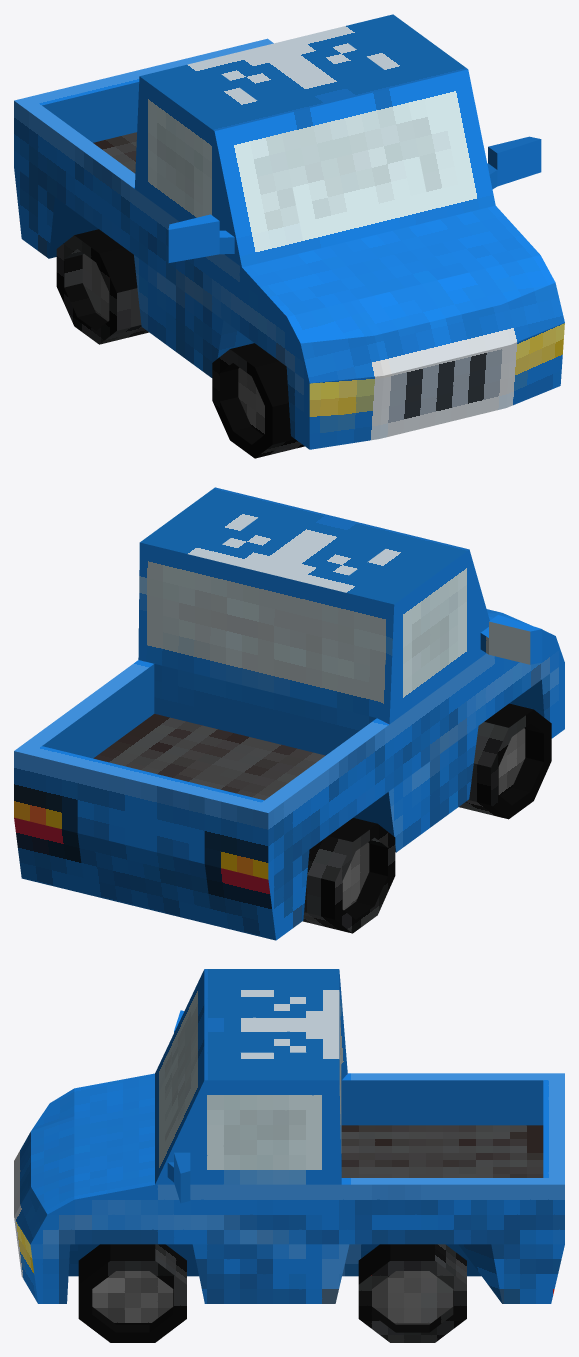
The model's file is truck.gltf.
3 views of the same model, one above another, from view 1: azimuth 30°, elevation 25°; view 2: azimuth 150°, elevation 25°; view 3: azimuth 270°, elevation 25° (orthographic). The views are drawn at different scales.
Parts seen in each view (by area): view 1: body, cylinder (×2), mirror_right, mirror_left; view 2: body, cylinder (×2), mirror_right; view 3: body, cylinder (×2), mirror_left.
Part boxes in pixels (x1,y1,x2,y2): body: (14, 14, 564, 449); cylinder (×2): (56, 229, 304, 458); mirror_right: (168, 214, 234, 262); mirror_left: (487, 136, 541, 189); body: (14, 487, 564, 940); cylinder (×2): (303, 703, 551, 933); mirror_right: (480, 615, 542, 664); body: (14, 969, 564, 1303); cylinder (×2): (78, 1244, 466, 1342); mirror_left: (167, 1152, 190, 1203).
Bounding box in the file's own units: 1.47 × 1.08 × 2.09.
Materials: 1 (1 with a texture image).
